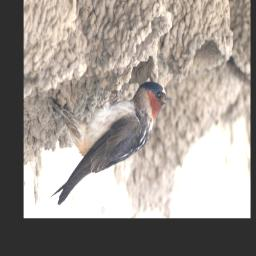Swallow: (47, 80, 173, 206)
